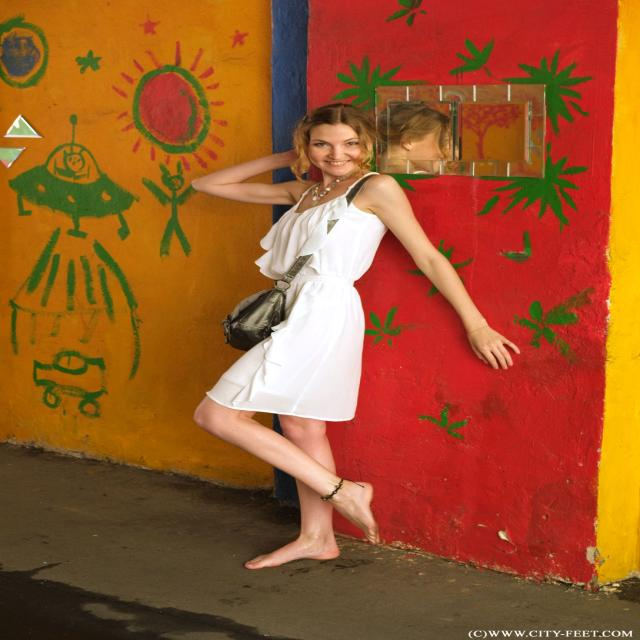No Safety Boots: (244, 540, 340, 569), (349, 481, 380, 545)
